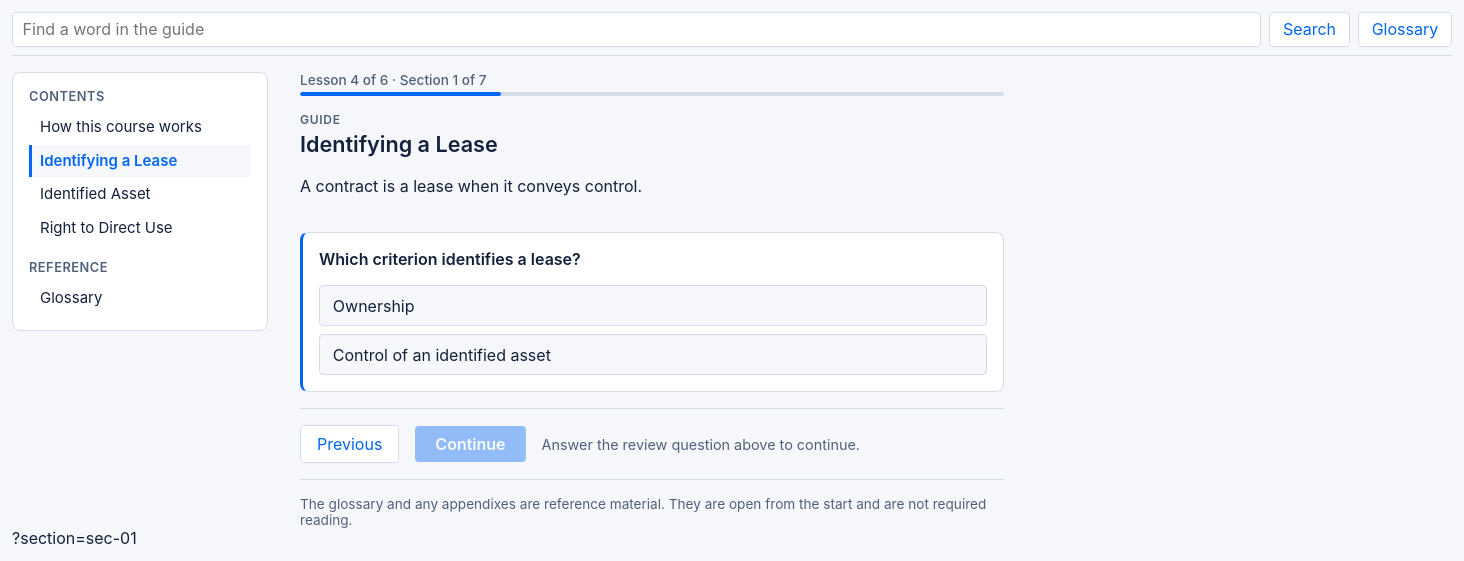
Reader position indicator (037) › updates the section position when another section is selected
Expected: the element that starts with "Lesson 4 of 6 · Section 1 of 7" is shown, x1=300 y1=72 x2=486 y2=88
Step 1. Click the button "Right to Direct Use" → (140, 228), box x1=29 y1=212 x2=251 y2=244
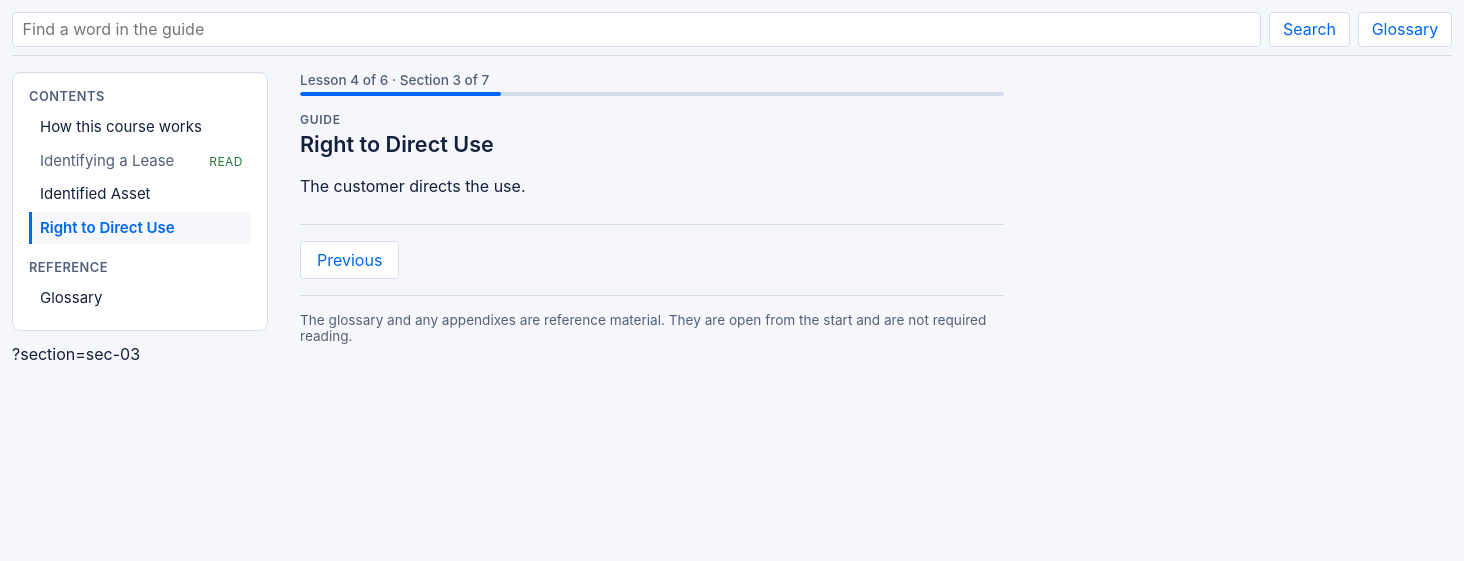
Expected: the element that starts with "Lesson 4 of 6 · Section 3 of 7" is shown, x1=300 y1=72 x2=489 y2=88
Step 2. Click the button "How this course works" → (140, 128), box x1=29 y1=112 x2=251 y2=143
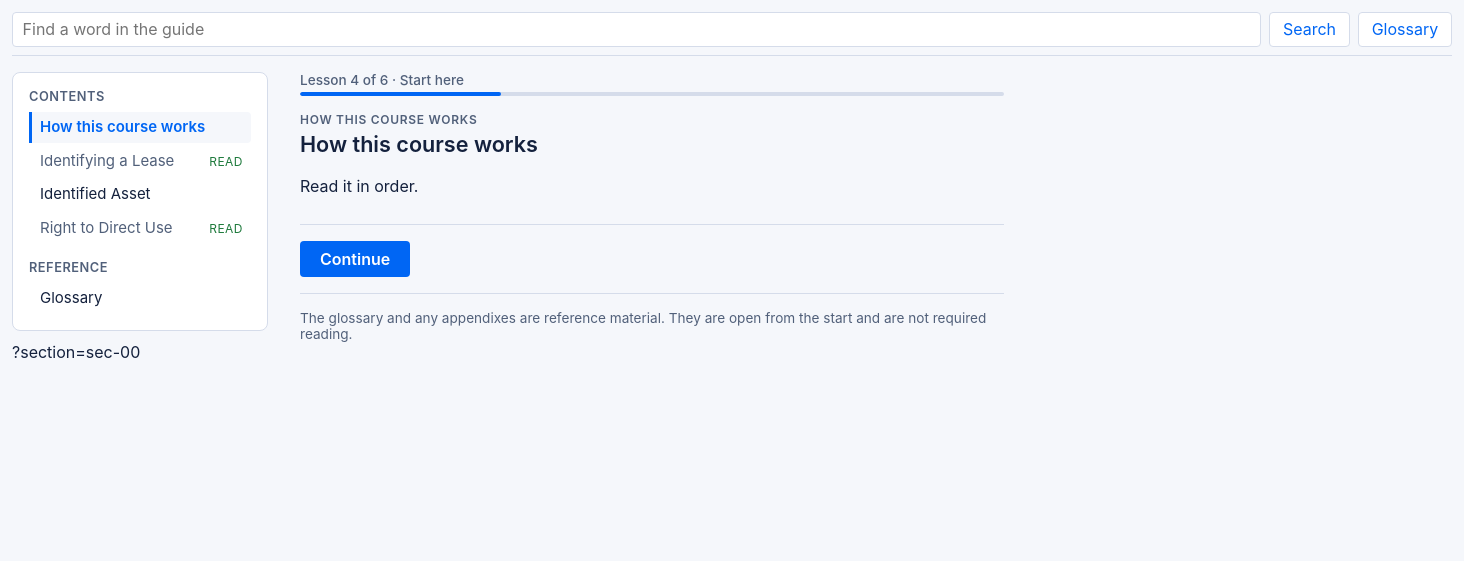
Expected: the element that starts with "Lesson 4 of 6 · Start here" is shown, x1=300 y1=72 x2=464 y2=88
